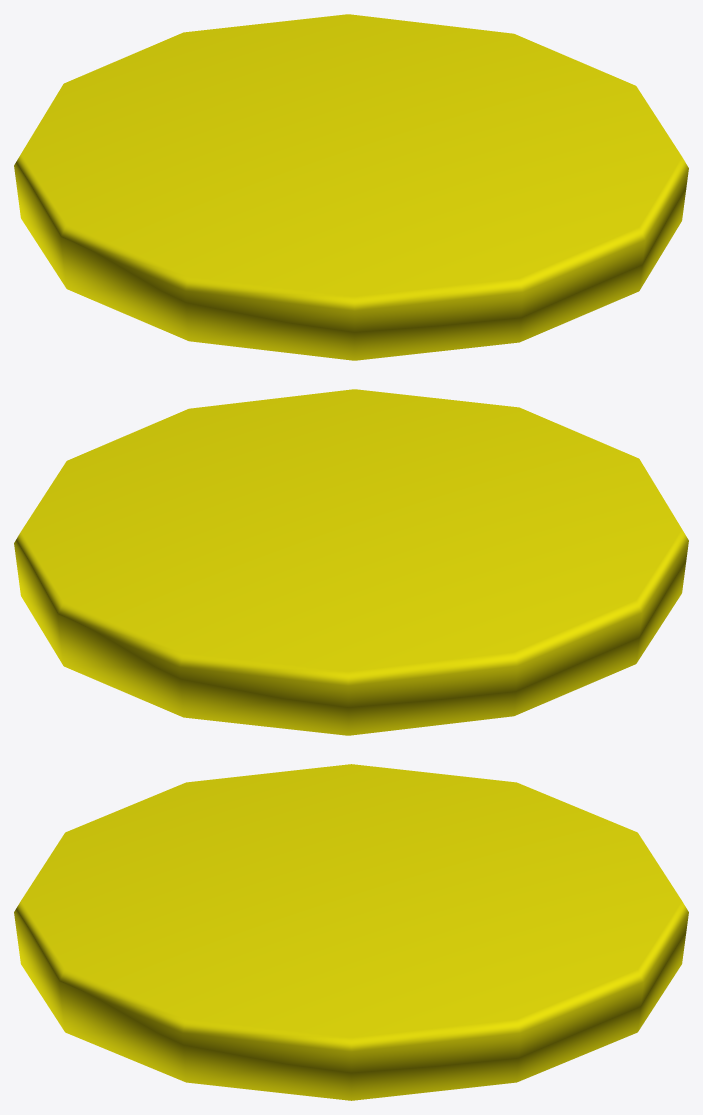
File: Wide_Cabinet_Leg_Base_B.fbx
3 renders of one model, top to bottom at view 1: azimuth 30°, elevation 25°; view 2: azimuth 150°, elevation 25°; view 3: azimuth 270°, elevation 25°, orthographic.
Visible parts, largest first — view 1: Wide_Cabinet_Leg_Base_B; view 2: Wide_Cabinet_Leg_Base_B; view 3: Wide_Cabinet_Leg_Base_B.
Boxes of the visible parts, left/top/right/bottom form: Wide_Cabinet_Leg_Base_B: left=14, top=14, right=688, bottom=360; Wide_Cabinet_Leg_Base_B: left=14, top=389, right=688, bottom=735; Wide_Cabinet_Leg_Base_B: left=14, top=764, right=688, bottom=1100.
Bounding box in the file's own units: 3.05 × 0.3219 × 3.11.
